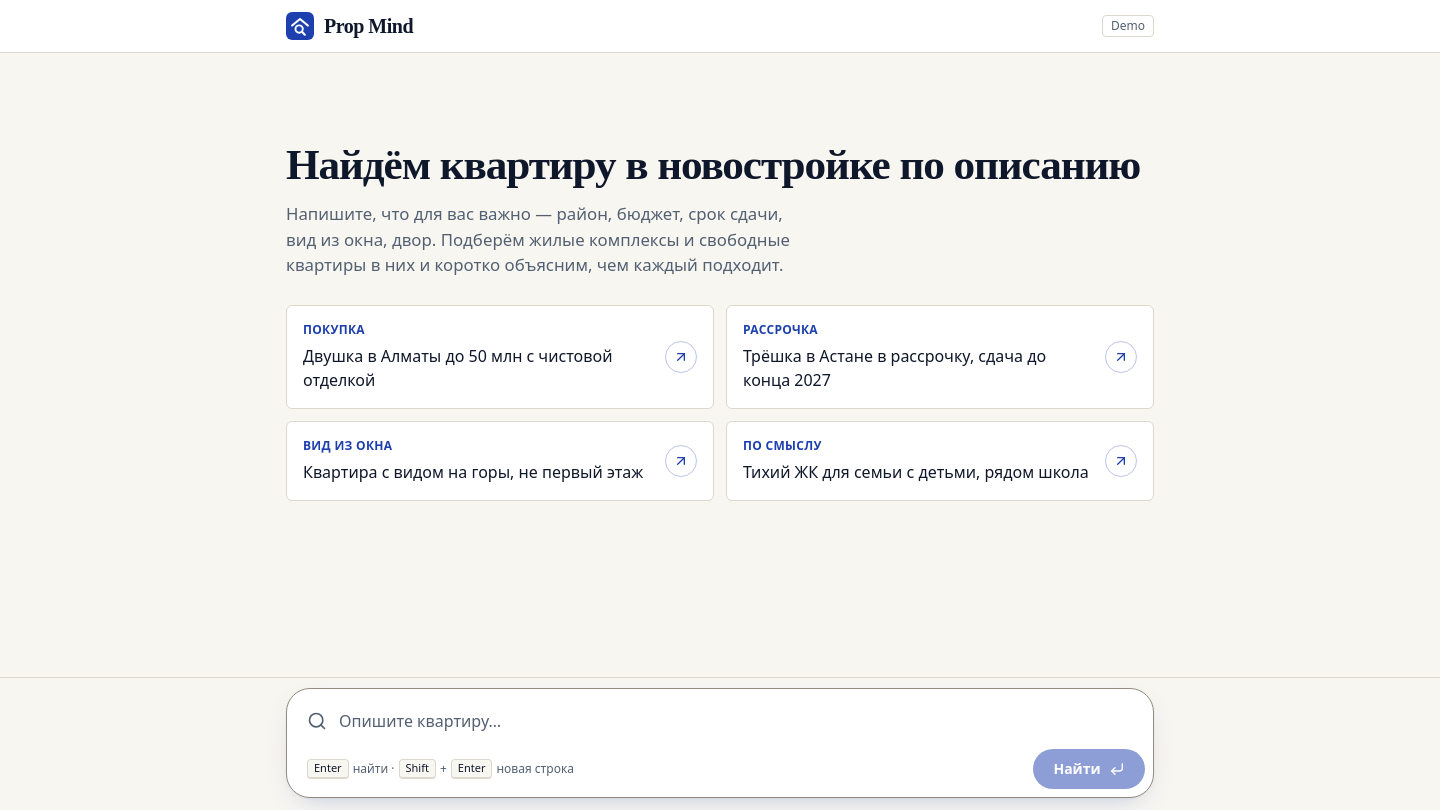
Test: v2: tool label while working; clarified answer is shown as a question
Later steps or results of the test are not shown.
Type "хочу квартиру" into the text box named "Запрос" at [736, 721], box [339, 701, 1133, 741]
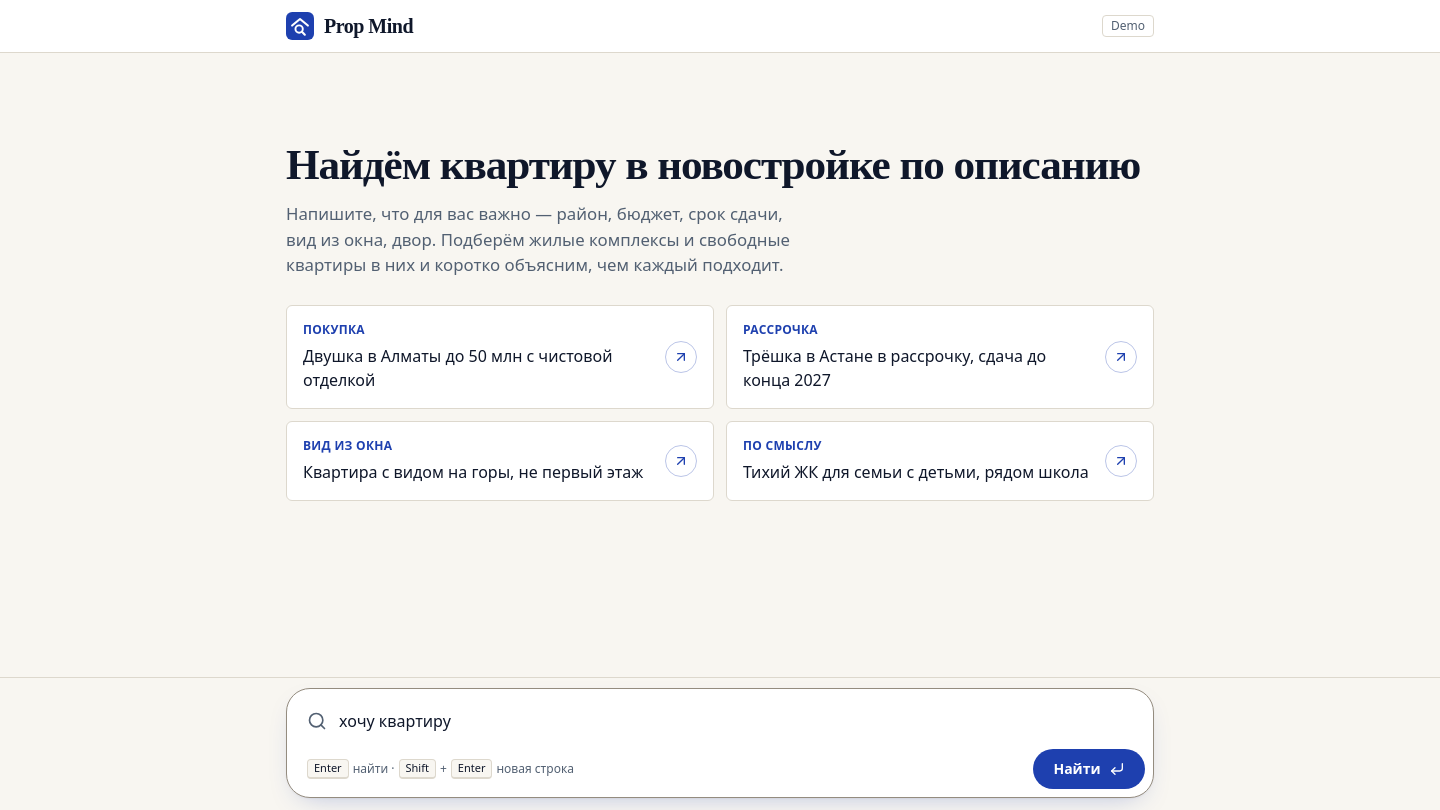
Press Enter in the text box named "Запрос", box [339, 701, 1133, 741]
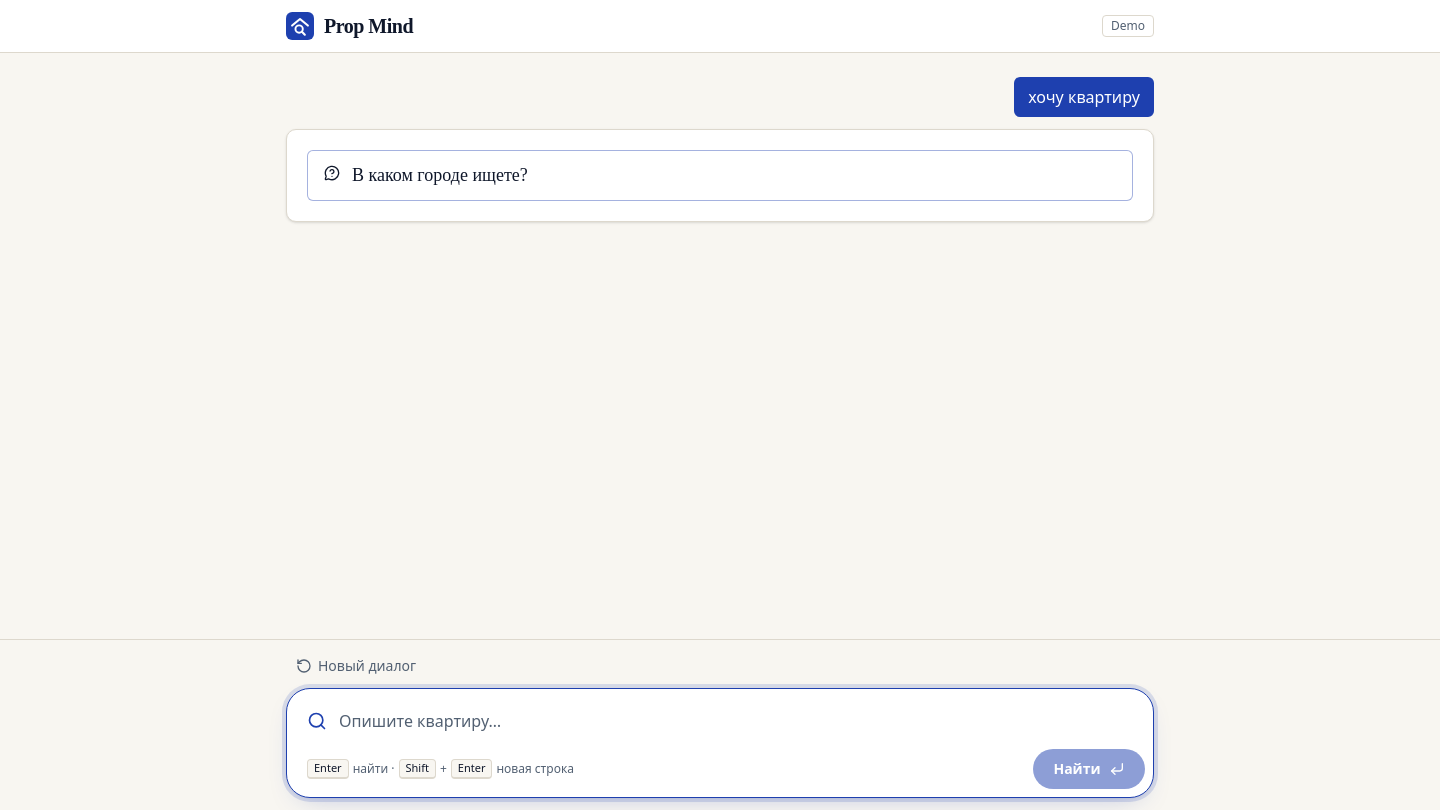
Check: the text "В каком городе ищете?" is shown, box [352, 165, 528, 185]
